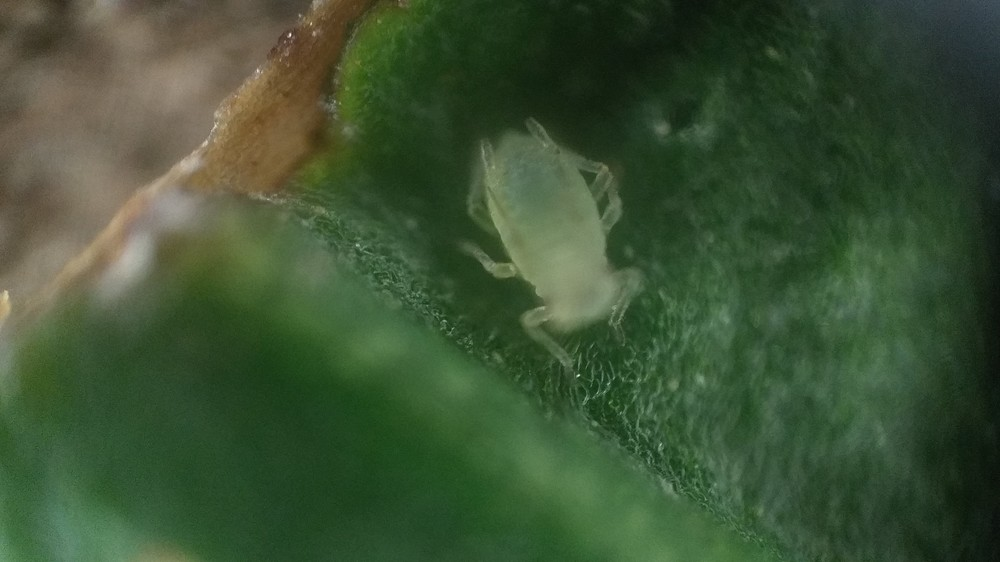Pulgon: (444, 105, 683, 375)
